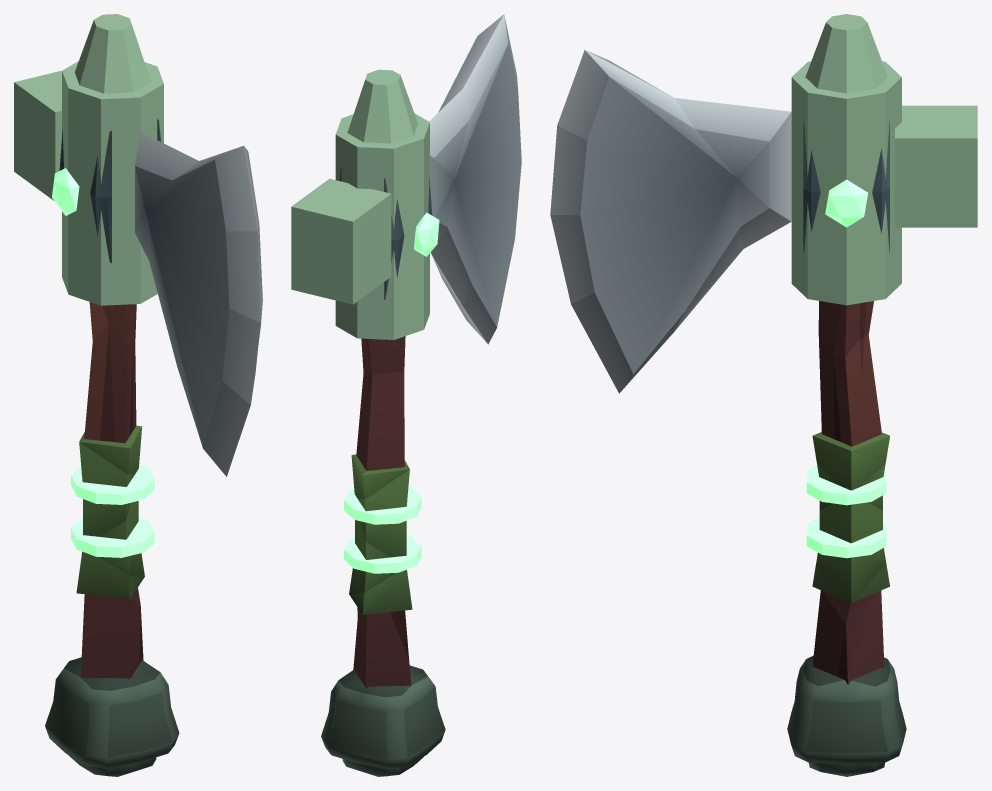
The model's file is axe_uncommon.glb.
The picture shows the model from 3 angles, left to right: view 1: azimuth 30°, elevation 25°; view 2: azimuth 150°, elevation 25°; view 3: azimuth 270°, elevation 25°; orthographic projection. The views are drawn at different scales.
Parts seen in each view (by area): view 1: axe_uncommon_export; view 2: axe_uncommon_export; view 3: axe_uncommon_export.
Boxes of the visible parts, box(x1,y1,x2,y2) form: axe_uncommon_export: box(14, 14, 262, 776); axe_uncommon_export: box(291, 14, 521, 776); axe_uncommon_export: box(550, 14, 977, 776).
Size of the model in its own units: 21.97 by 142 by 73.16.
